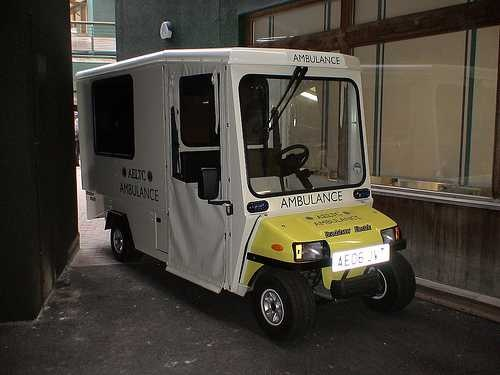Ambulance: (69, 39, 450, 321)
